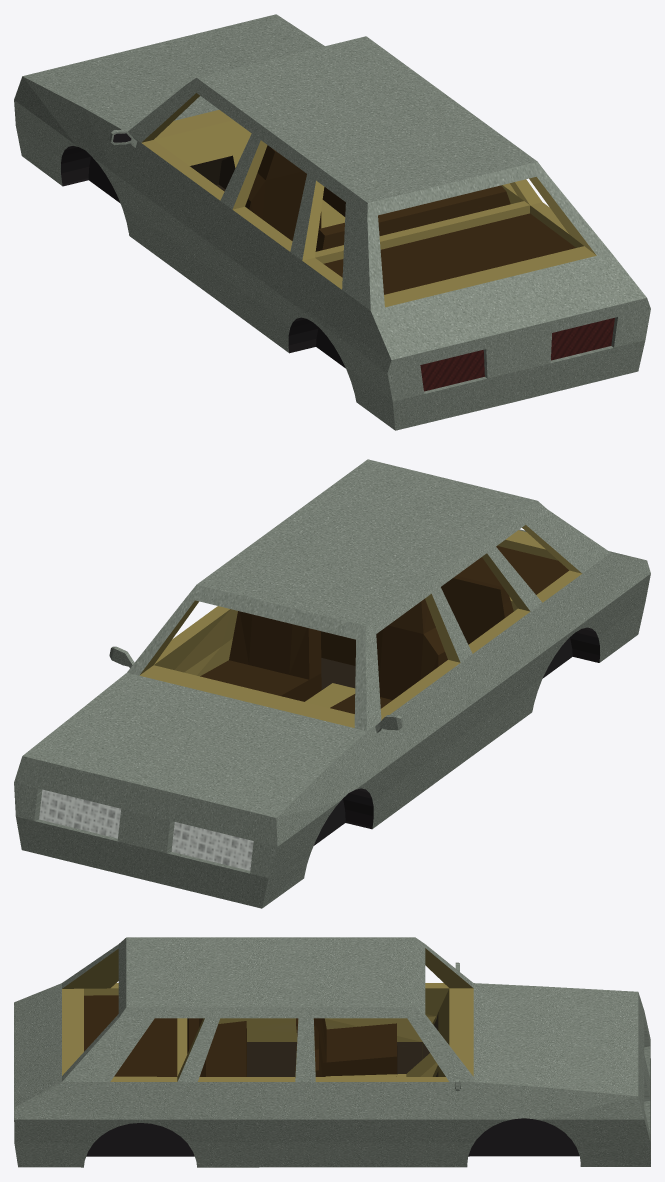
Rendered from car_for_diplom.dae.
The picture shows the model from 3 angles, top to bottom: view 1: azimuth 30°, elevation 25°; view 2: azimuth 150°, elevation 25°; view 3: azimuth 270°, elevation 25°; orthographic projection. The views are drawn at different scales.
Parts seen in each view (by area): view 1: Cube; view 2: Cube; view 3: Cube.
Part boxes in pixels (box(x1,y1,x2,y2)): Cube: box(14, 14, 650, 430); Cube: box(14, 459, 650, 908); Cube: box(14, 937, 650, 1167).
Size of what is drawn, in the model's own units: 3.78 by 8.43 by 2.12.
Materials: 1 (1 with a texture image).
